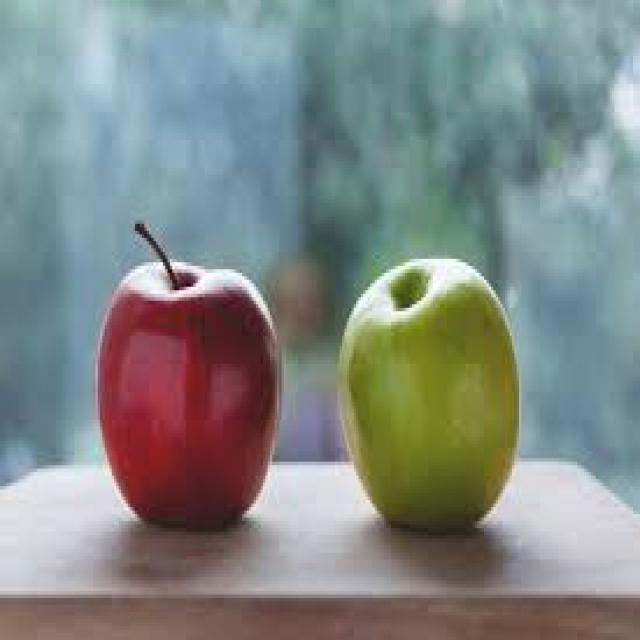apple: (93, 220, 284, 535), (333, 252, 526, 535)
